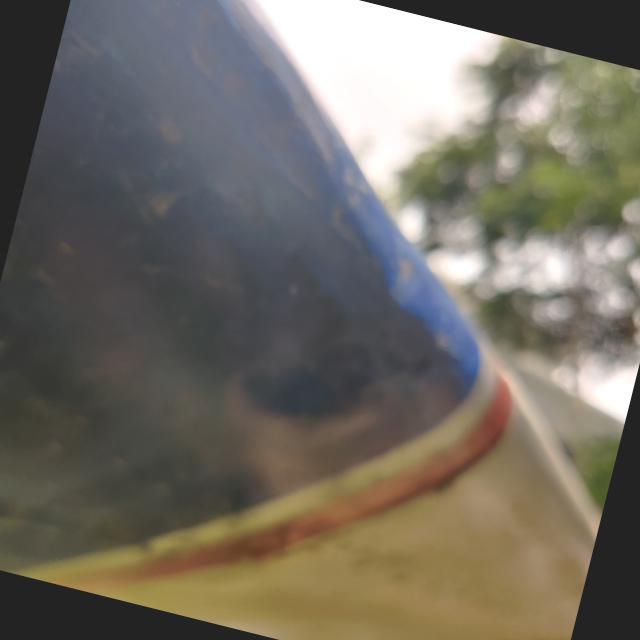dent: (190, 274, 415, 481)
